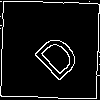D: (25, 25, 84, 83)
